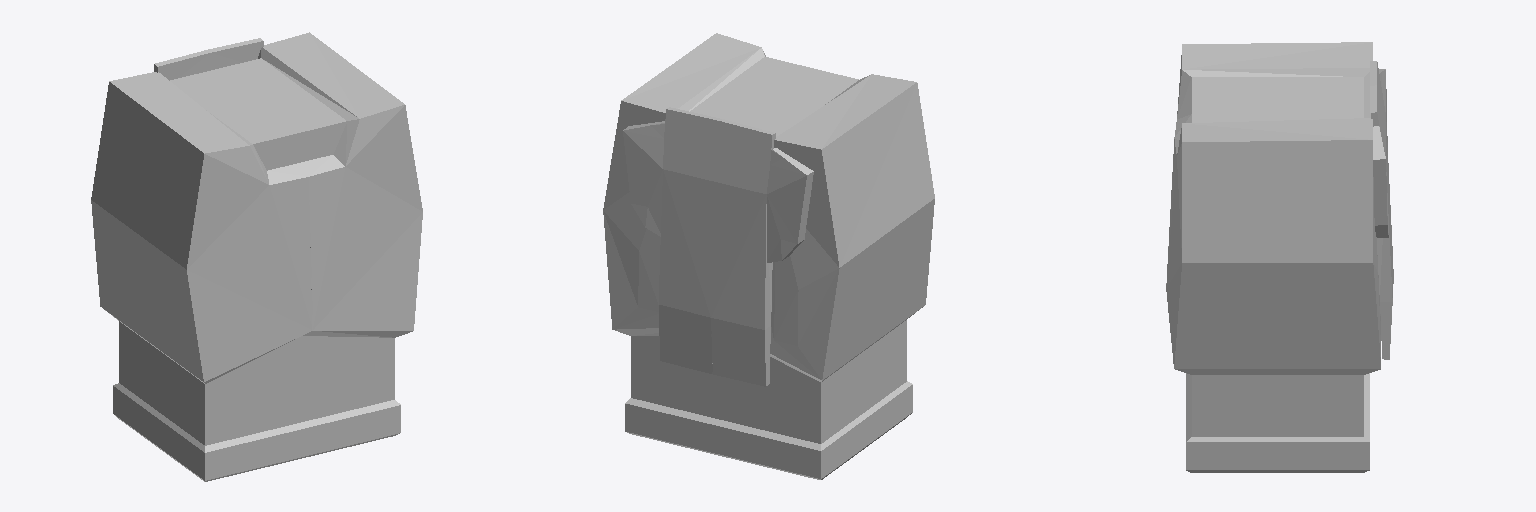
File: arm_heavy_chest.obj
The picture shows the model from 3 angles: view 1: azimuth 30°, elevation 25°; view 2: azimuth 150°, elevation 25°; view 3: azimuth 270°, elevation 25°; orthographic projection.
Visible parts, largest first — view 1: arm_heavy_chest_Cube.001; view 2: arm_heavy_chest_Cube.001; view 3: arm_heavy_chest_Cube.001.
Boxes of the visible parts, <box> form: arm_heavy_chest_Cube.001: <box>91,32,422,481</box>; arm_heavy_chest_Cube.001: <box>603,33,934,479</box>; arm_heavy_chest_Cube.001: <box>1166,42,1393,472</box>.
Size of the model in its own units: 2.38 by 3.29 by 1.99.